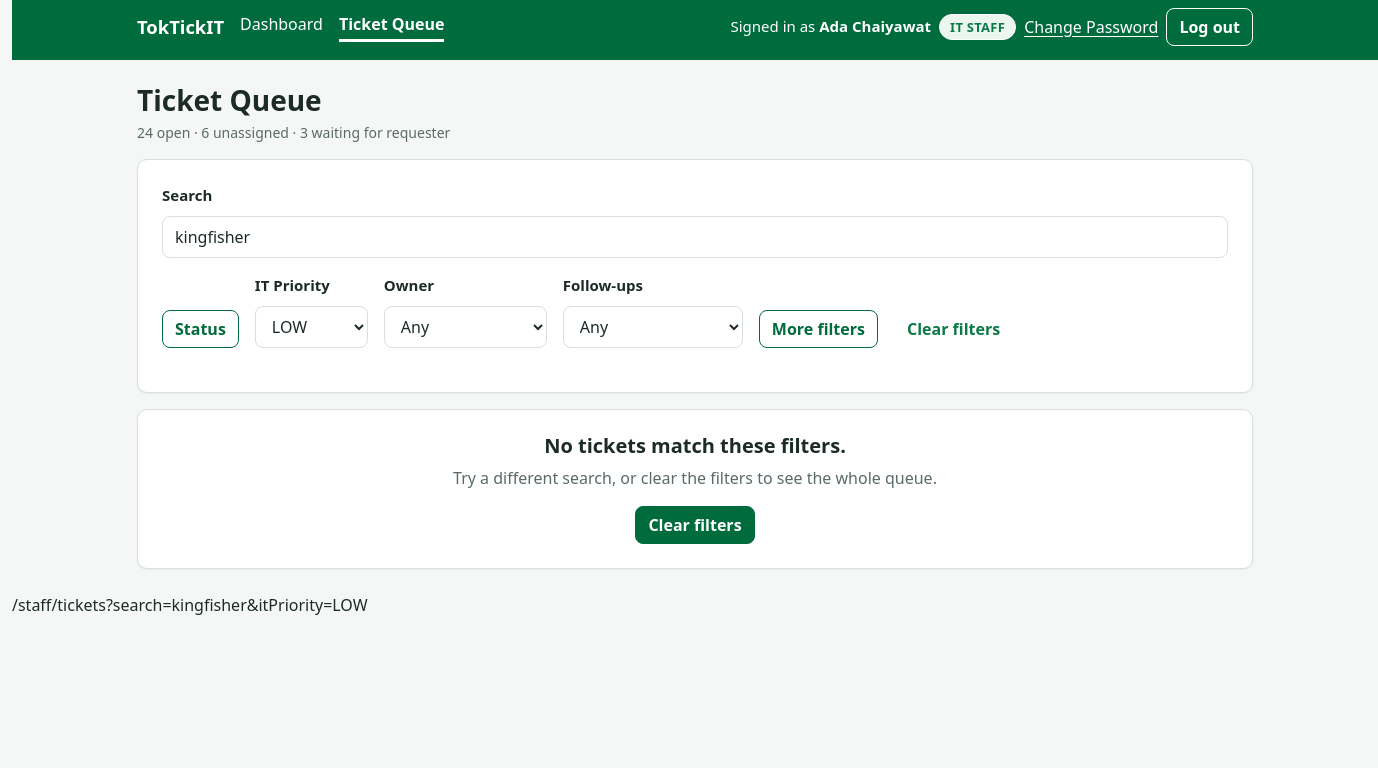
Test case: UI-19 empty versus no results (AC-35, exit criterion) › shows a different message with Clear filters as the primary action when filters match nothing
Click the button "Clear filters" below "No tickets match these filters.": (695, 525) [635, 506, 755, 544]
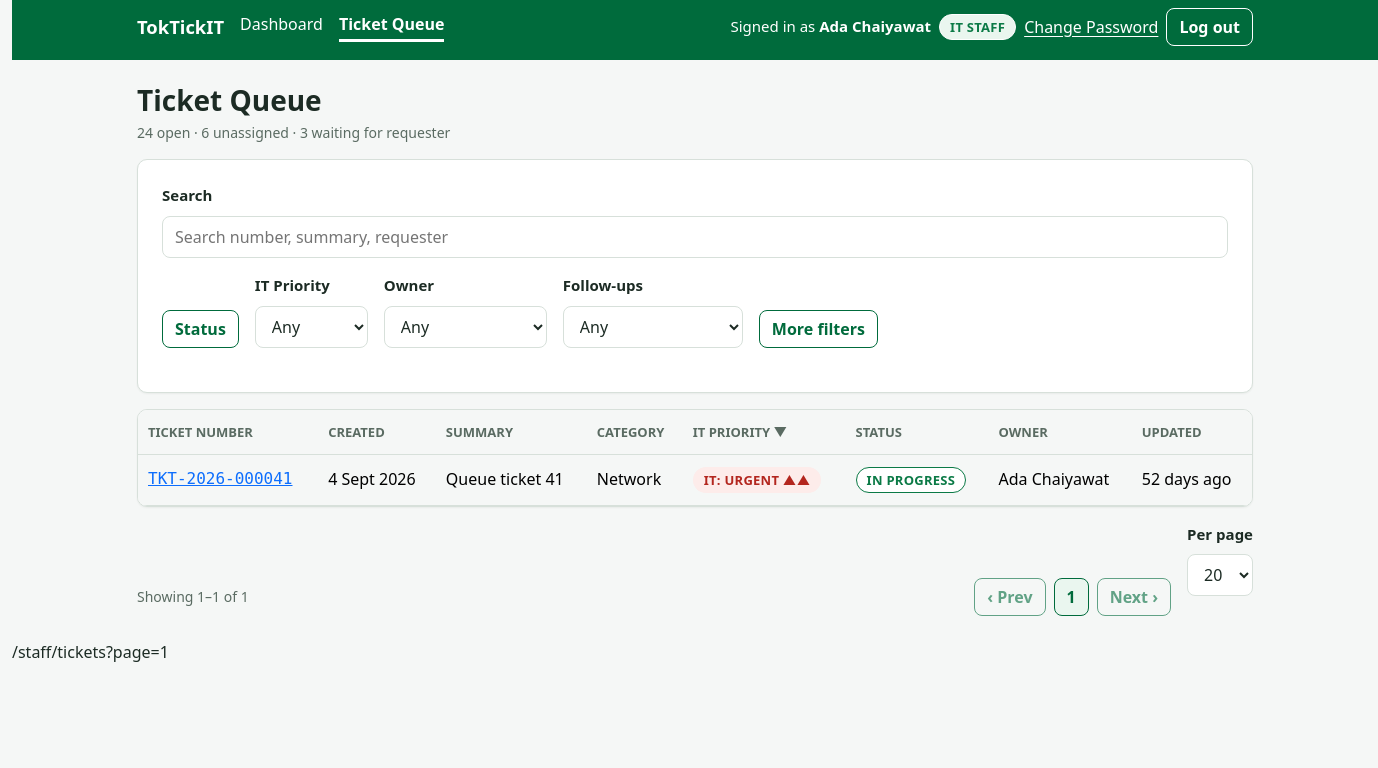
Result: the table is shown at [138, 410, 1252, 506]
